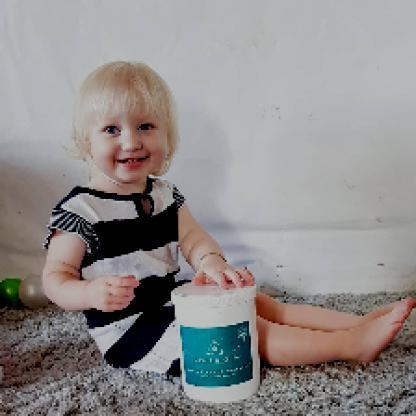child: (42, 61, 416, 377)
